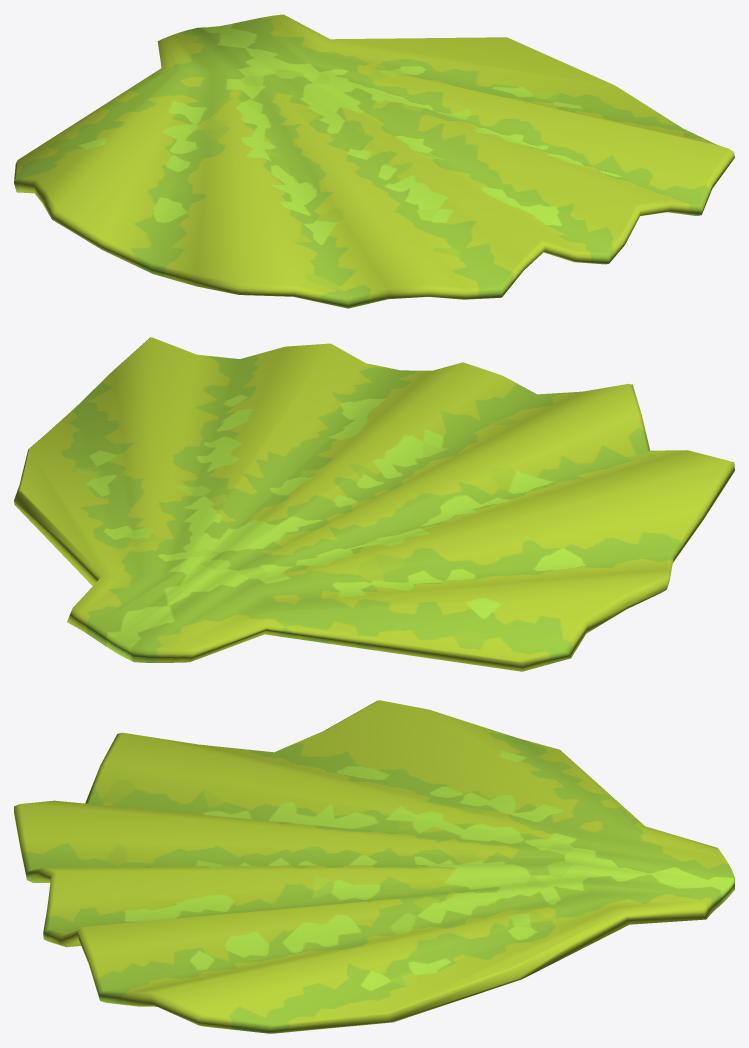
Rendered from Lettuce.fbx.
3 renders of one model, top to bottom at view 1: azimuth 30°, elevation 25°; view 2: azimuth 150°, elevation 25°; view 3: azimuth 270°, elevation 25°, orthographic. The views are drawn at different scales.
Parts seen in each view (by area): view 1: Lettuce; view 2: Lettuce; view 3: Lettuce.
Part boxes in pixels (x1,y1,x2,y2): Lettuce: [14, 14, 734, 308]; Lettuce: [14, 337, 734, 671]; Lettuce: [14, 700, 734, 1033].
Size of the model in its own units: 203 by 13.21 by 205.
